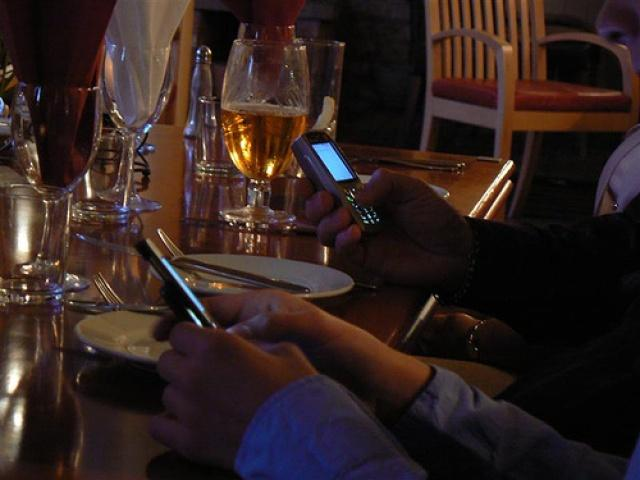Kursi: (415, 0, 639, 158)
